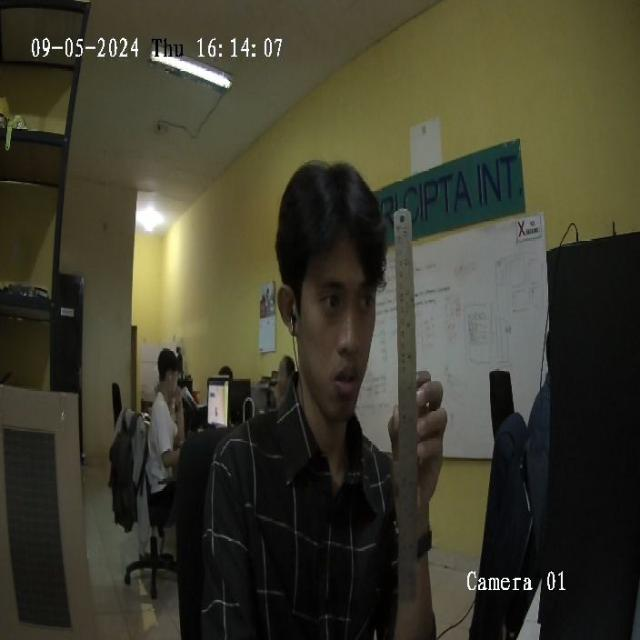Ruler: (395, 208, 419, 603)
